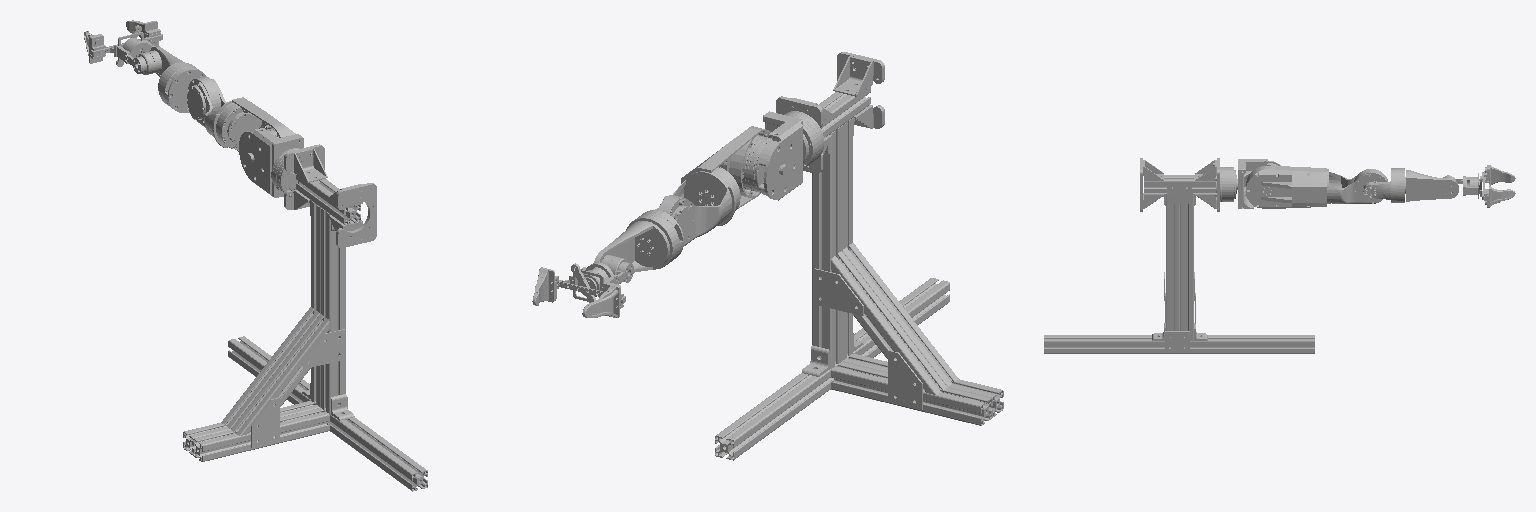
URDF robot description (exportedthing):
<?xml version="1.0" encoding="utf-8"?>
<!-- This URDF was automatically created by SolidWorks to URDF Exporter! Originally created by Stephen Brawner (brawner@gmail.com) 
     Commit Version: 1.6.0-4-g7f85cfe  Build Version: 1.6.7995.38578
     For more information, please see http://wiki.ros.org/sw_urdf_exporter -->
<robot
  name="exportedthing">
  <link
    name="base_link">
    <inertial>
      <origin
        xyz="-0.0412258493472457 0.00663966467851988 0.233985851685071"
        rpy="0 0 0" />
      <mass
        value="7.37380736011519" />
      <inertia
        ixx="0.092516828742445"
        ixy="-6.73765051703839E-08"
        ixz="-0.00256322945076055"
        iyy="0.0434576736756215"
        iyz="4.50841857430588E-09"
        izz="0.0731424007339861" />
    </inertial>
    <visual>
      <origin
        xyz="0 0 0"
        rpy="0 0 0" />
      <geometry>
        <mesh
          filename="../meshes/base_link.STL" />
      </geometry>
      <material
        name="">
        <color
          rgba="0.752941176470588 0.752941176470588 0.752941176470588 1" />
      </material>
    </visual>
    <collision>
      <origin
        xyz="0 0 0"
        rpy="0 0 0" />
      <geometry>
        <mesh
          filename="../meshes/base_link.STL" />
      </geometry>
    </collision>
  </link>
  <link
    name="link1">
    <inertial>
      <origin
        xyz="-0.00648795299237911 0.0599988979727674 -0.000882960082026596"
        rpy="0 0 0" />
      <mass
        value="0.715719482519169" />
      <inertia
        ixx="0.00134468810099399"
        ixy="0.000142459070747257"
        ixz="1.68816843621997E-05"
        iyy="0.00092992094802783"
        iyz="-6.11897424051889E-06"
        izz="0.000849238302765314" />
    </inertial>
    <visual>
      <origin
        xyz="0 0 0"
        rpy="0 0 0" />
      <geometry>
        <mesh
          filename="../meshes/link1.STL" />
      </geometry>
      <material
        name="">
        <color
          rgba="0.752941176470588 0.752941176470588 0.752941176470588 1" />
      </material>
    </visual>
    <collision>
      <origin
        xyz="0 0 0"
        rpy="0 0 0" />
      <geometry>
        <mesh
          filename="../meshes/link1.STL" />
      </geometry>
    </collision>
  </link>
  <joint
    name="joint1"
    type="revolute">
    <origin
      xyz="0 0.16355 0.5172"
      rpy="0 0 0" />
    <parent
      link="base_link" />
    <child
      link="link1" />
    <axis
      xyz="0 -1 0" />
    <limit
      lower="0"
      upper="0"
      effort="0"
      velocity="0" />
  </joint>
  <link
    name="link2">
    <inertial>
      <origin
        xyz="8.25660219826441E-05 0.0610024234984366 -0.00011888229898771"
        rpy="0 0 0" />
      <mass
        value="0.393289380625047" />
      <inertia
        ixx="0.00186278179556899"
        ixy="5.68528573099947E-05"
        ixz="-3.35440755032515E-06"
        iyy="0.000565515412912576"
        iyz="7.65055535409335E-06"
        izz="0.00158017034822198" />
    </inertial>
    <visual>
      <origin
        xyz="0 0 0"
        rpy="0 0 0" />
      <geometry>
        <mesh
          filename="../meshes/link2.STL" />
      </geometry>
      <material
        name="">
        <color
          rgba="0.752941176470588 0.752941176470588 0.752941176470588 1" />
      </material>
    </visual>
    <collision>
      <origin
        xyz="0 0 0"
        rpy="0 0 0" />
      <geometry>
        <mesh
          filename="../meshes/link2.STL" />
      </geometry>
    </collision>
  </link>
  <joint
    name="joint2"
    type="revolute">
    <origin
      xyz="0.0315 0.084 0"
      rpy="0 0 0" />
    <parent
      link="link1" />
    <child
      link="link2" />
    <axis
      xyz="1 0 0" />
    <limit
      lower="0"
      upper="0"
      effort="0"
      velocity="0" />
  </joint>
  <link
    name="link3">
    <inertial>
      <origin
        xyz="-0.000312682076162474 0.0674576758506982 -0.0092377650875145"
        rpy="0 0 0" />
      <mass
        value="0.186801484722124" />
      <inertia
        ixx="0.00038742017283793"
        ixy="-1.14857719840377E-05"
        ixz="-1.20428997204374E-06"
        iyy="0.000201366374701445"
        iyz="2.34609614565593E-05"
        izz="0.000353464950085447" />
    </inertial>
    <visual>
      <origin
        xyz="0 0 0"
        rpy="0 0 0" />
      <geometry>
        <mesh
          filename="../meshes/link3.STL" />
      </geometry>
      <material
        name="">
        <color
          rgba="0.752941176470588 0.752941176470588 0.752941176470588 1" />
      </material>
    </visual>
    <collision>
      <origin
        xyz="0 0 0"
        rpy="0 0 0" />
      <geometry>
        <mesh
          filename="../meshes/link3.STL" />
      </geometry>
    </collision>
  </link>
  <joint
    name="joint3"
    type="revolute">
    <origin
      xyz="-0.017 0.171 0"
      rpy="0 0 0" />
    <parent
      link="link2" />
    <child
      link="link3" />
    <axis
      xyz="0 -1 0" />
    <limit
      lower="0"
      upper="0"
      effort="0"
      velocity="0" />
  </joint>
  <link
    name="link4">
    <inertial>
      <origin
        xyz="-0.0147100151690501 0.0552519220957829 -0.000438528328839727"
        rpy="0 0 0" />
      <mass
        value="0.171198731825705" />
      <inertia
        ixx="0.000159971107180257"
        ixy="2.85342796396147E-05"
        ixz="-4.4117012545662E-06"
        iyy="0.000199888569506982"
        iyz="1.56895414340281E-06"
        izz="0.000173071202830974" />
    </inertial>
    <visual>
      <origin
        xyz="0 0 0"
        rpy="0 0 0" />
      <geometry>
        <mesh
          filename="../meshes/link4.STL" />
      </geometry>
      <material
        name="">
        <color
          rgba="0.752941176470588 0.752941176470588 0.752941176470588 1" />
      </material>
    </visual>
    <collision>
      <origin
        xyz="0 0 0"
        rpy="0 0 0" />
      <geometry>
        <mesh
          filename="../meshes/link4.STL" />
      </geometry>
    </collision>
  </link>
  <joint
    name="joint4"
    type="revolute">
    <origin
      xyz="0.02 0.12 0"
      rpy="0 0 0" />
    <parent
      link="link3" />
    <child
      link="link4" />
    <axis
      xyz="-1 0 0" />
    <limit
      lower="0"
      upper="0"
      effort="0"
      velocity="0" />
  </joint>
  <link
    name="link5">
    <inertial>
      <origin
        xyz="0.0101064742185897 0.0501218669985956 -1.58020471687781E-05"
        rpy="0 0 0" />
      <mass
        value="0.149874419924705" />
      <inertia
        ixx="0.000350578321442484"
        ixy="-5.78554405242181E-05"
        ixz="1.62694798799184E-08"
        iyy="0.000111057036297084"
        iyz="2.37323142180924E-10"
        izz="0.000317256455304642" />
    </inertial>
    <visual>
      <origin
        xyz="0 0 0"
        rpy="0 0 0" />
      <geometry>
        <mesh
          filename="../meshes/link5.STL" />
      </geometry>
      <material
        name="">
        <color
          rgba="0.752941176470588 0.752941176470588 0.752941176470588 1" />
      </material>
    </visual>
    <collision>
      <origin
        xyz="0 0 0"
        rpy="0 0 0" />
      <geometry>
        <mesh
          filename="../meshes/link5.STL" />
      </geometry>
    </collision>
  </link>
  <joint
    name="joint5"
    type="revolute">
    <origin
      xyz="-0.0263 0.1055 0"
      rpy="0 0 0" />
    <parent
      link="link4" />
    <child
      link="link5" />
    <axis
      xyz="0 -1 0" />
    <limit
      lower="0"
      upper="0"
      effort="0"
      velocity="0" />
  </joint>
  <link
    name="link6">
    <inertial>
      <origin
        xyz="0.030004294635101 0.0554434500338501 -7.85291217074713E-05"
        rpy="0 0 0" />
      <mass
        value="0.108391369555054" />
      <inertia
        ixx="2.83157324789147E-05"
        ixy="4.28967707823919E-07"
        ixz="-2.5805118659042E-06"
        iyy="7.00884254274417E-05"
        iyz="4.16303393714034E-09"
        izz="6.28400614742533E-05" />
    </inertial>
    <visual>
      <origin
        xyz="0 0 0"
        rpy="0 0 0" />
      <geometry>
        <mesh
          filename="../meshes/link6.STL" />
      </geometry>
      <material
        name="">
        <color
          rgba="0.752941176470588 0.752941176470588 0.752941176470588 1" />
      </material>
    </visual>
    <collision>
      <origin
        xyz="0 0 0"
        rpy="0 0 0" />
      <geometry>
        <mesh
          filename="../meshes/link6.STL" />
      </geometry>
    </collision>
  </link>
  <joint
    name="joint6"
    type="revolute">
    <origin
      xyz="-0.031 0.112 0"
      rpy="0 0 0" />
    <parent
      link="link5" />
    <child
      link="link6" />
    <axis
      xyz="1 0 0" />
    <limit
      lower="0"
      upper="0"
      effort="0"
      velocity="0" />
  </joint>
  <link
    name="link7">
    <inertial>
      <origin
        xyz="-0.0132355322035244 -0.0229688354212437 -0.00641129829055498"
        rpy="0 0 0" />
      <mass
        value="0.0372930643780564" />
      <inertia
        ixx="1.98339907529153E-05"
        ixy="2.61462925187634E-06"
        ixz="6.69221668550033E-09"
        iyy="9.05266724182922E-06"
        iyz="-4.79076444543872E-07"
        izz="1.51529245061872E-05" />
    </inertial>
    <visual>
      <origin
        xyz="0 0 0"
        rpy="0 0 0" />
      <geometry>
        <mesh
          filename="../meshes/link7.STL" />
      </geometry>
      <material
        name="">
        <color
          rgba="0.752941176470588 0.752941176470588 0.752941176470588 1" />
      </material>
    </visual>
    <collision>
      <origin
        xyz="0 0 0"
        rpy="0 0 0" />
      <geometry>
        <mesh
          filename="../meshes/link7.STL" />
      </geometry>
    </collision>
  </link>
  <joint
    name="joint7"
    type="prismatic">
    <origin
      xyz="0.085558 0.10361 0.004349"
      rpy="0 0 3.1416" />
    <parent
      link="link6" />
    <child
      link="link7" />
    <axis
      xyz="-1 0 0" />
    <limit
      lower="0"
      upper="0"
      effort="0"
      velocity="0" />
  </joint>
  <link
    name="link8">
    <inertial>
      <origin
        xyz="0.013235532205747 -0.0229688354216888 -0.002288701708969"
        rpy="0 0 0" />
      <mass
        value="0.0372930643788012" />
      <inertia
        ixx="1.9833990753199E-05"
        ixy="-2.61462925178402E-06"
        ixz="6.69221583498458E-09"
        iyy="9.05266724192254E-06"
        iyz="4.79076445188803E-07"
        izz="1.51529245063711E-05" />
    </inertial>
    <visual>
      <origin
        xyz="0 0 0"
        rpy="0 0 0" />
      <geometry>
        <mesh
          filename="../meshes/link8.STL" />
      </geometry>
      <material
        name="">
        <color
          rgba="0.752941176470588 0.752941176470588 0.752941176470588 1" />
      </material>
    </visual>
    <collision>
      <origin
        xyz="0 0 0"
        rpy="0 0 0" />
      <geometry>
        <mesh
          filename="../meshes/link8.STL" />
      </geometry>
    </collision>
  </link>
  <joint
    name="joint8"
    type="prismatic">
    <origin
      xyz="-0.016558 0.10361 0.004349"
      rpy="0 0 3.1416" />
    <parent
      link="link6" />
    <child
      link="link8" />
    <axis
      xyz="-1 0 0" />
    <limit
      lower="0"
      upper="0"
      effort="0"
      velocity="0" />
  </joint>
</robot>

--- Facts derived from the render (not from the file) ---
Views: 3 orthographic renders of the robot side by side, from view 1: azimuth 30°, elevation 25°; view 2: azimuth 150°, elevation 25°; view 3: azimuth 270°, elevation 25°.
Robot: exportedthing — 9 links, 8 joints (6 revolute, 2 prismatic); root link base_link; default pose: all joints at 0.
Links seen in each view (by area): view 1: base_link, link1, link2, link6, link3, link4, link5; view 2: base_link, link1, link3, link5, link2, link6, link4, link8, link7; view 3: base_link, link2, link3, link5, link4, link1.
Boxes of the visible links, x1,y1,x2,y2 form: base_link: (183,144,427,491); link1: (239,128,303,197); link2: (212,97,295,151); link6: (90,25,162,74); link3: (187,76,231,136); link4: (159,63,222,112); link5: (149,46,184,94); base_link: (715,52,1003,460); link1: (742,111,802,200); link3: (658,171,731,245); link5: (594,221,669,272); link2: (681,126,770,225); link6: (557,257,633,303); link4: (626,208,683,269); link8: (582,282,623,317); link7: (532,267,558,305); base_link: (1044,158,1314,353); link2: (1246,166,1326,208); link3: (1327,169,1387,203); link5: (1405,170,1458,201); link4: (1364,168,1404,202); link1: (1238,159,1280,208).
Bounding box of the posed robot: 0.4206 × 1.33 × 0.5822 m (x, y, z).
9 mesh visuals loaded from 9 distinct referenced files (9 binary STL).
